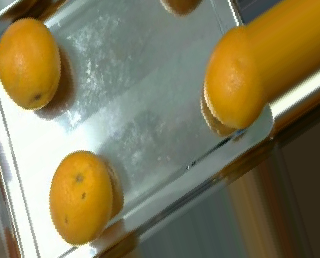Orange: (49, 150, 115, 245), (1, 18, 61, 110)
